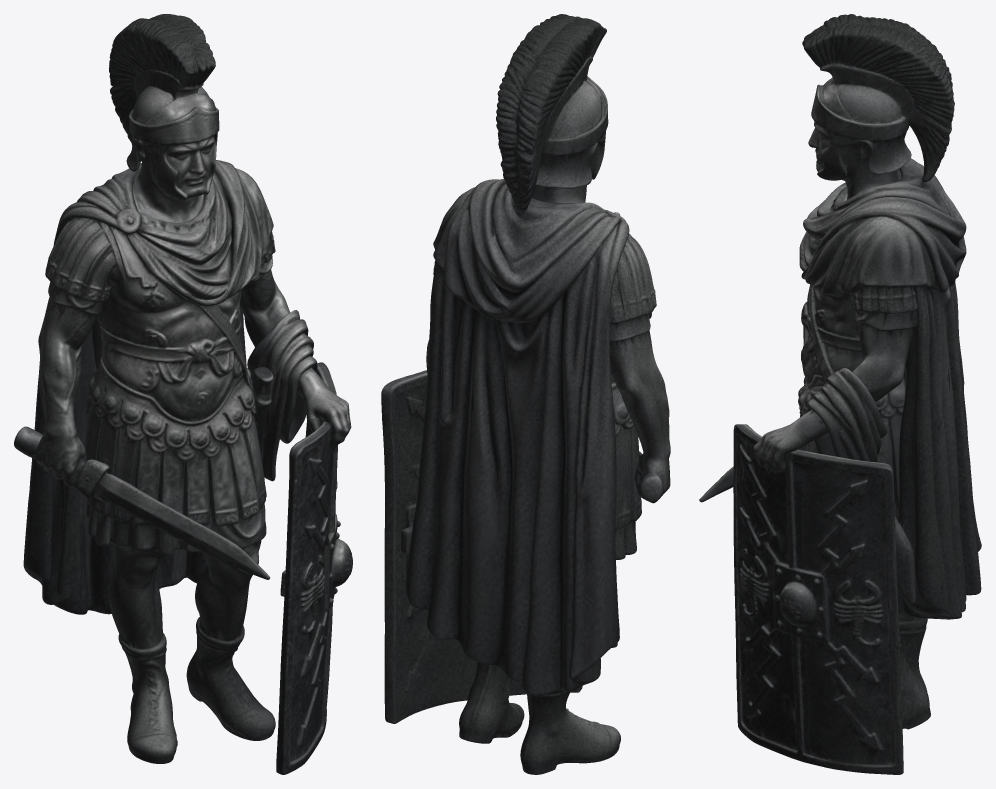
File: system-terminator.glb
3 renders of one model, left to right at view 1: azimuth 30°, elevation 25°; view 2: azimuth 150°, elevation 25°; view 3: azimuth 270°, elevation 25°, orthographic. The views are drawn at different scales.
Size of the model in its own units: 0.8105 by 1.9 by 0.7079.
Materials: 1 (1 with a texture image).
